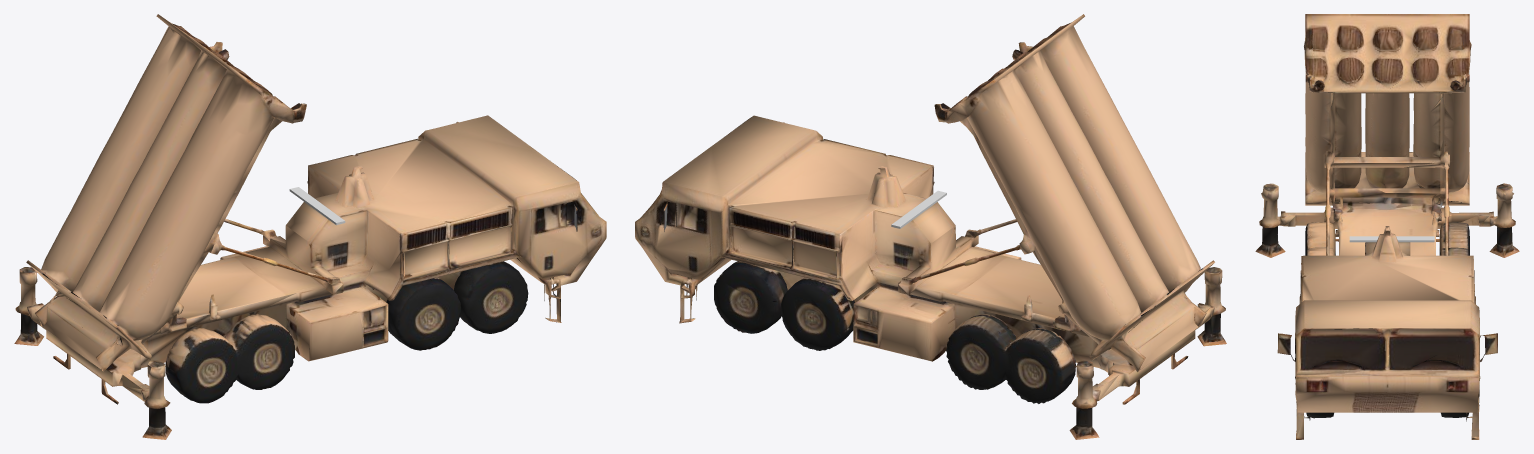
Rendered from thaad.glb.
3 views of the same model, side by side, from view 1: azimuth 30°, elevation 25°; view 2: azimuth 150°, elevation 25°; view 3: azimuth 270°, elevation 25° (orthographic). The views are drawn at different scales.
Visible parts, largest first — view 1: g_thaad_hull; view 2: g_thaad_hull; view 3: g_thaad_hull.
Part boxes in pixels (left/top/right/bottom): g_thaad_hull: left=14, top=14, right=606, bottom=439; g_thaad_hull: left=635, top=14, right=1226, bottom=439; g_thaad_hull: left=1255, top=14, right=1519, bottom=439.
Bounding box in the file's own units: 12.01 × 7.41 × 6.13.
2 materials, 1 textured.
